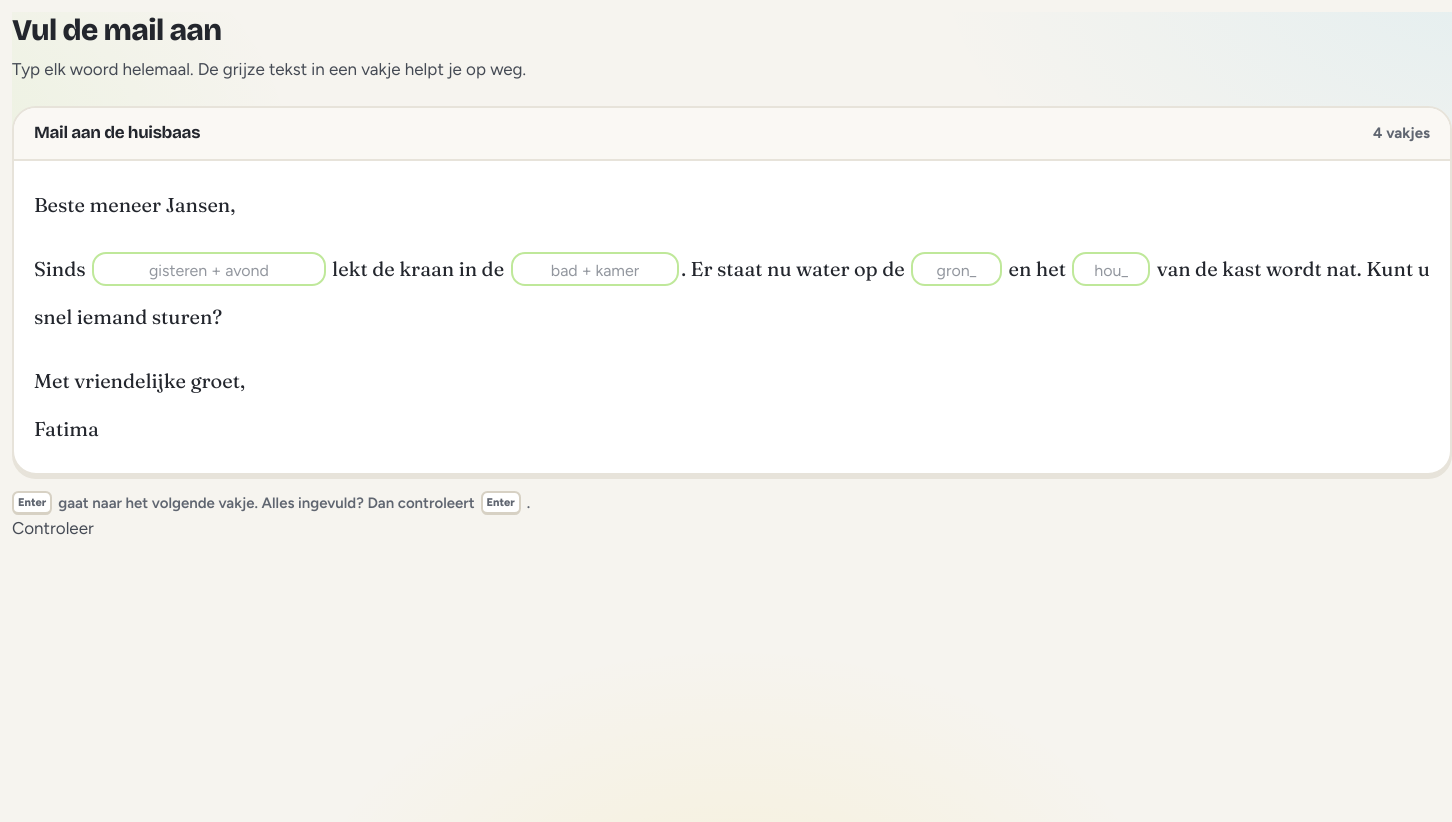
lange spellingoefeningen › invultekst: Enter springt naar het volgende vakje en controleert in het laatste
Click the field named "Vakje 1 van 4" at x=209, y=269, box x1=92 y1=252 x2=326 y2=286
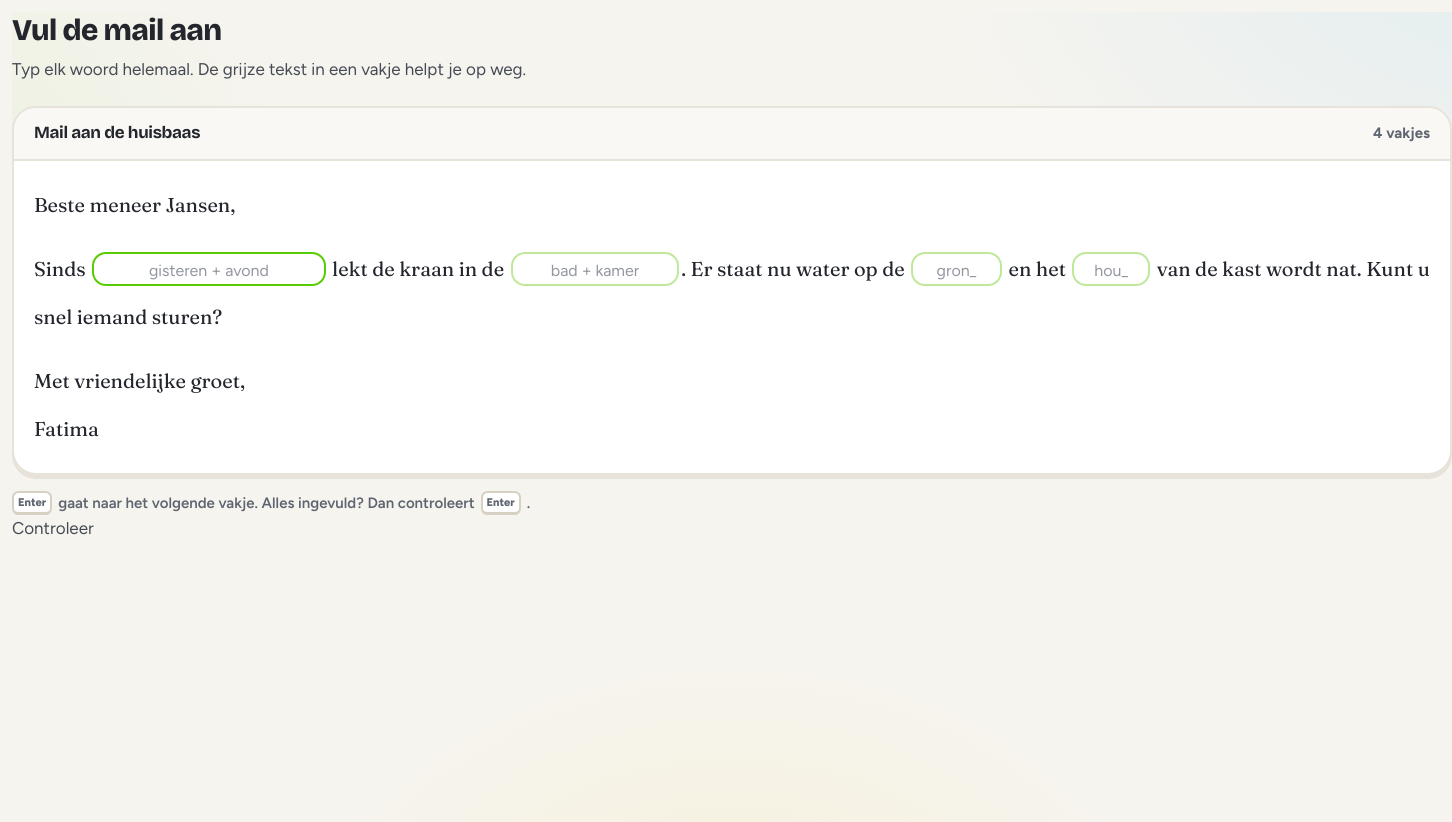
Type keys "gisteravond{Enter}badkamer{Enter}gront{Enter}hout{Enter}"
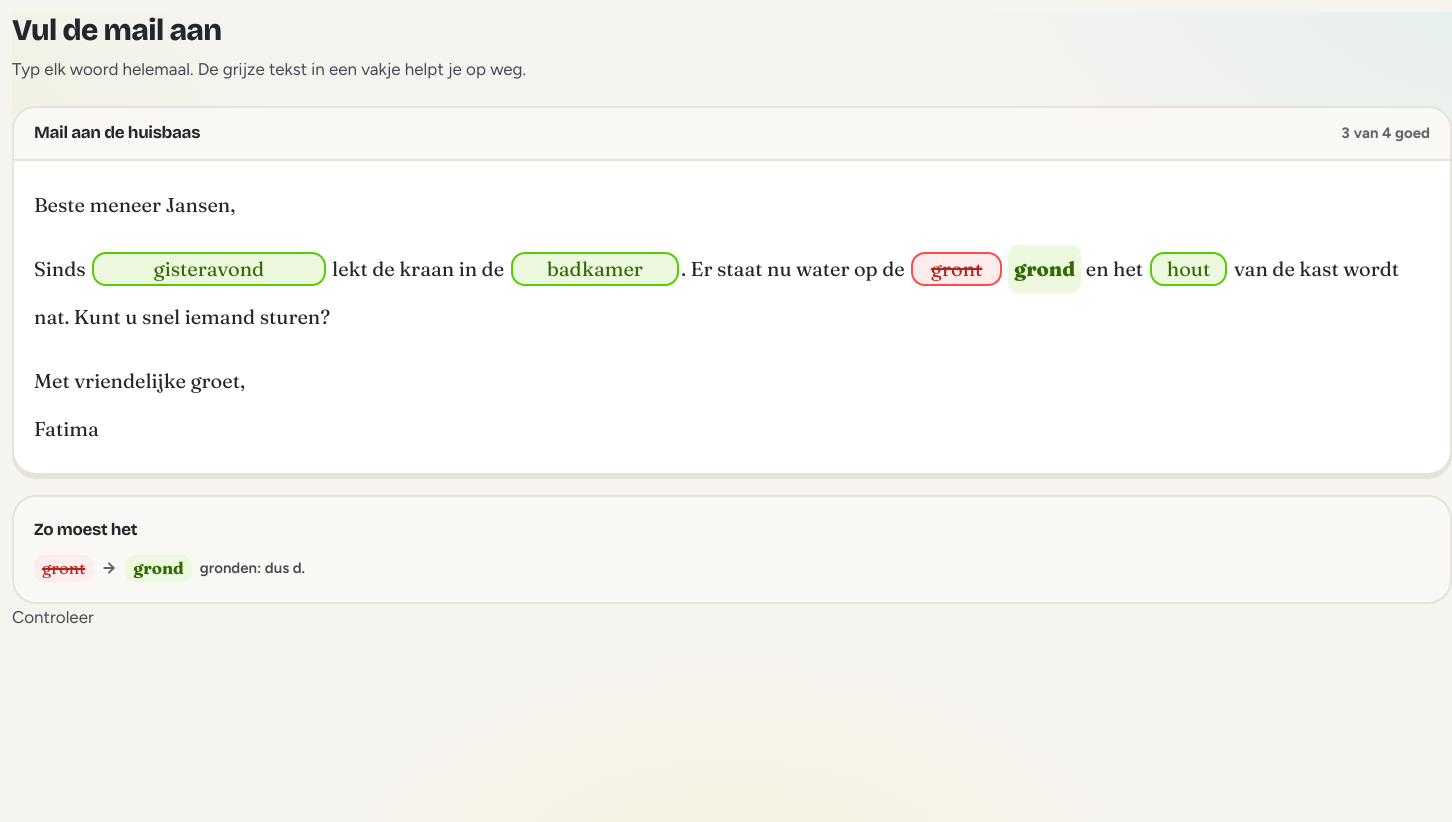
Now the heading "Zo moest het" is shown, box x1=34 y1=519 x2=137 y2=540
Now the text "gronden: dus d." is shown, box x1=200 y1=557 x2=305 y2=580
